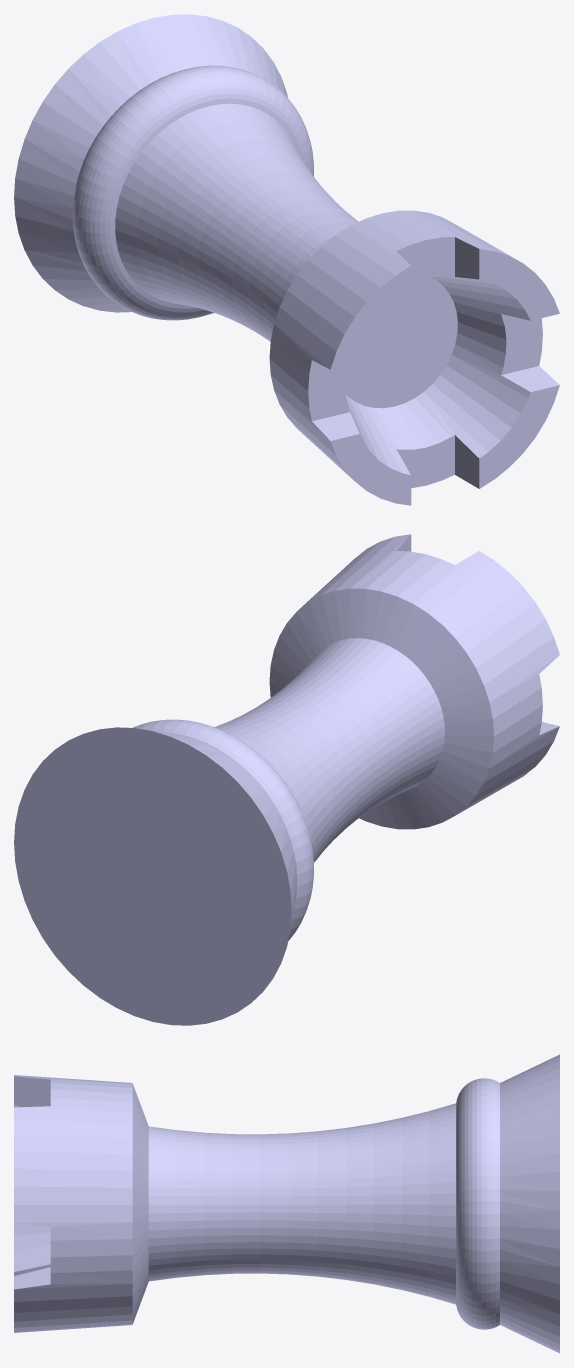
The picture shows the model from 3 angles, top to bottom: view 1: azimuth 30°, elevation 25°; view 2: azimuth 150°, elevation 25°; view 3: azimuth 270°, elevation 25°; orthographic projection. The views are drawn at different scales.
Visible parts, largest first — view 1: Rook; view 2: Rook; view 3: Rook.
Part boxes in pixels (x1,y1,x2,y2): Rook: [14, 14, 559, 505]; Rook: [14, 534, 559, 1025]; Rook: [14, 1054, 559, 1353].
Bounding box in the file's own units: 2.04 × 2.04 × 3.72.
